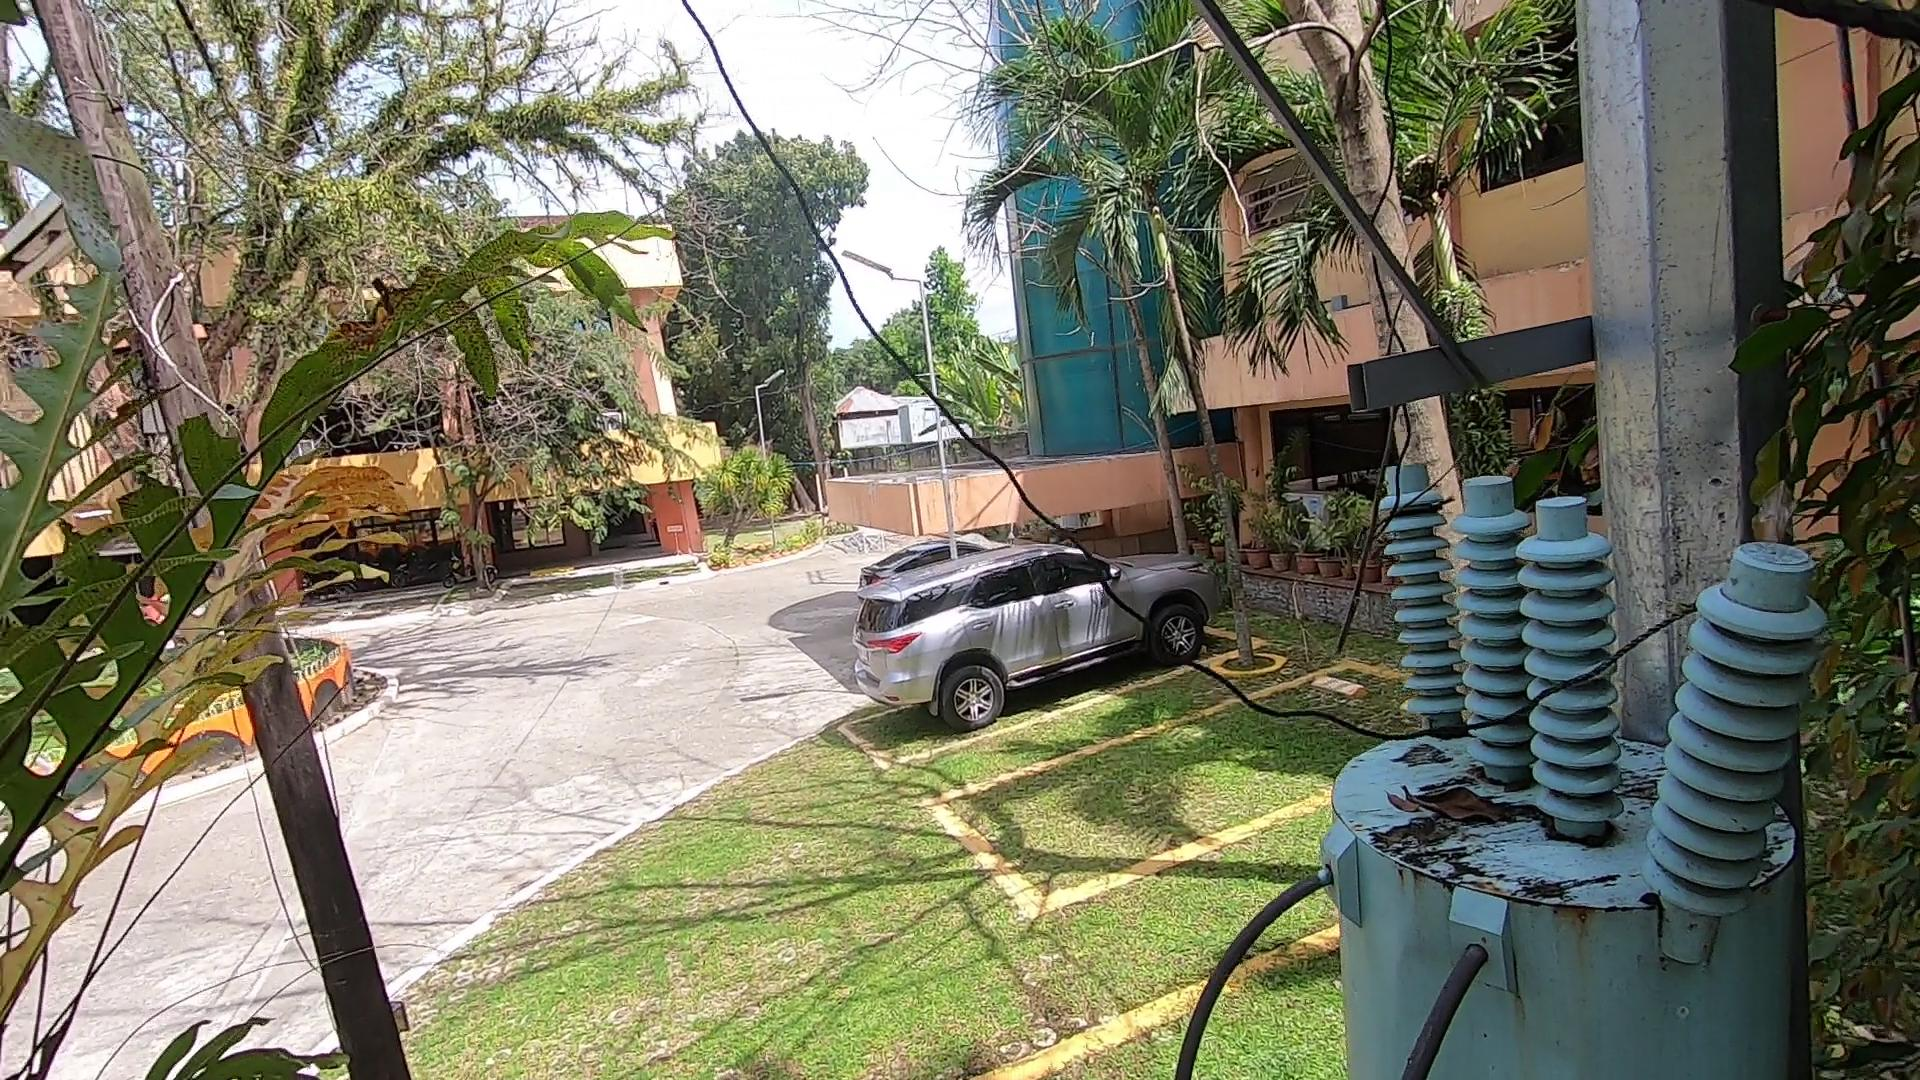leaf: (1381, 756, 1528, 835)
tree branch: (1284, 178, 1443, 665)
